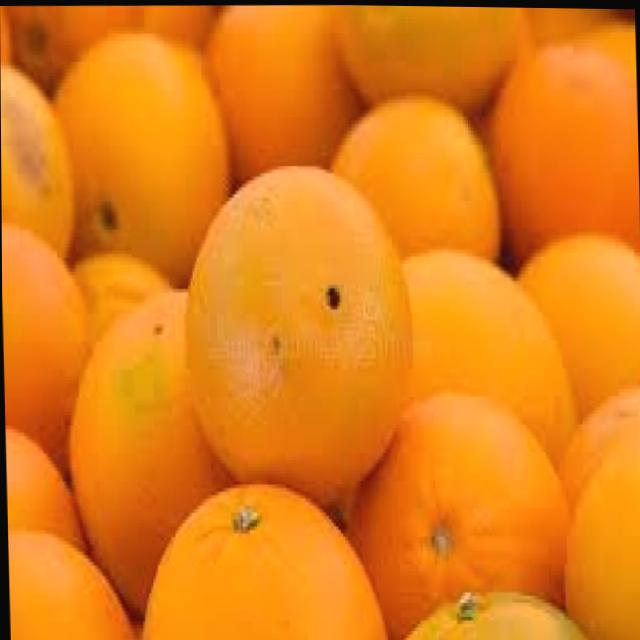orange: (181, 155, 420, 504), (64, 284, 235, 618), (350, 386, 569, 640), (53, 27, 228, 286), (393, 243, 576, 466), (138, 478, 381, 640), (489, 35, 637, 267), (332, 90, 499, 267), (207, 2, 356, 183), (518, 224, 640, 423), (341, 4, 522, 113), (1, 223, 88, 449), (69, 246, 170, 350)
